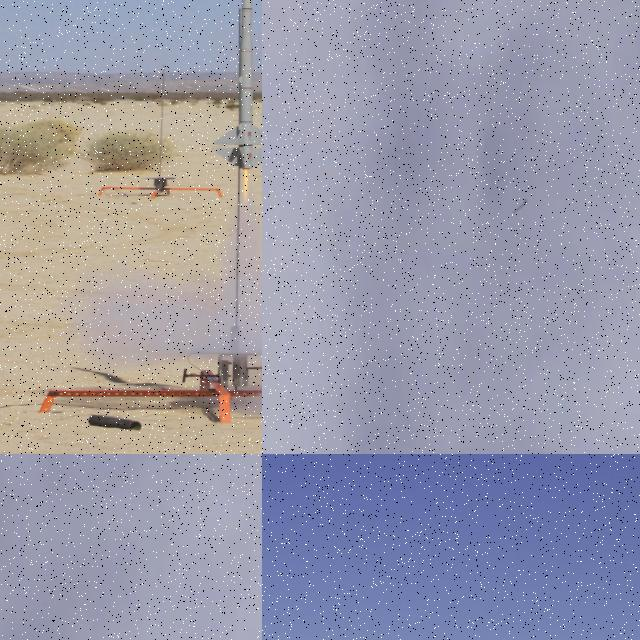Rocket: (211, 0, 262, 171), (512, 198, 528, 214)
